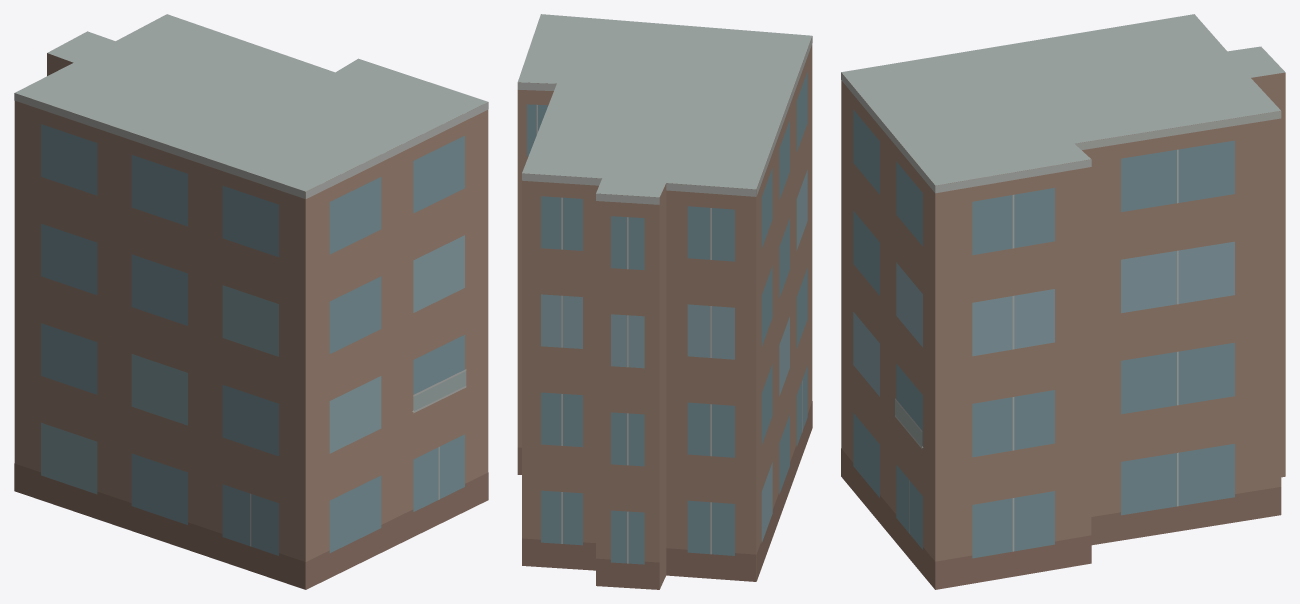
The model's file is survey-upis-32738930.glb.
3 renders of one model, left to right at view 1: azimuth 30°, elevation 25°; view 2: azimuth 150°, elevation 25°; view 3: azimuth 270°, elevation 25°, orthographic. The views are drawn at different scales.
Visible parts, largest first — view 1: survey-upis-32738930.tmp; view 2: survey-upis-32738930.tmp; view 3: survey-upis-32738930.tmp.
Part boxes in pixels (box(x1,y1,x2,y2)): survey-upis-32738930.tmp: box(14, 14, 488, 589); survey-upis-32738930.tmp: box(517, 14, 812, 589); survey-upis-32738930.tmp: box(841, 14, 1285, 589).
Size of the model in its own units: 11.66 by 12.8 by 12.77.
